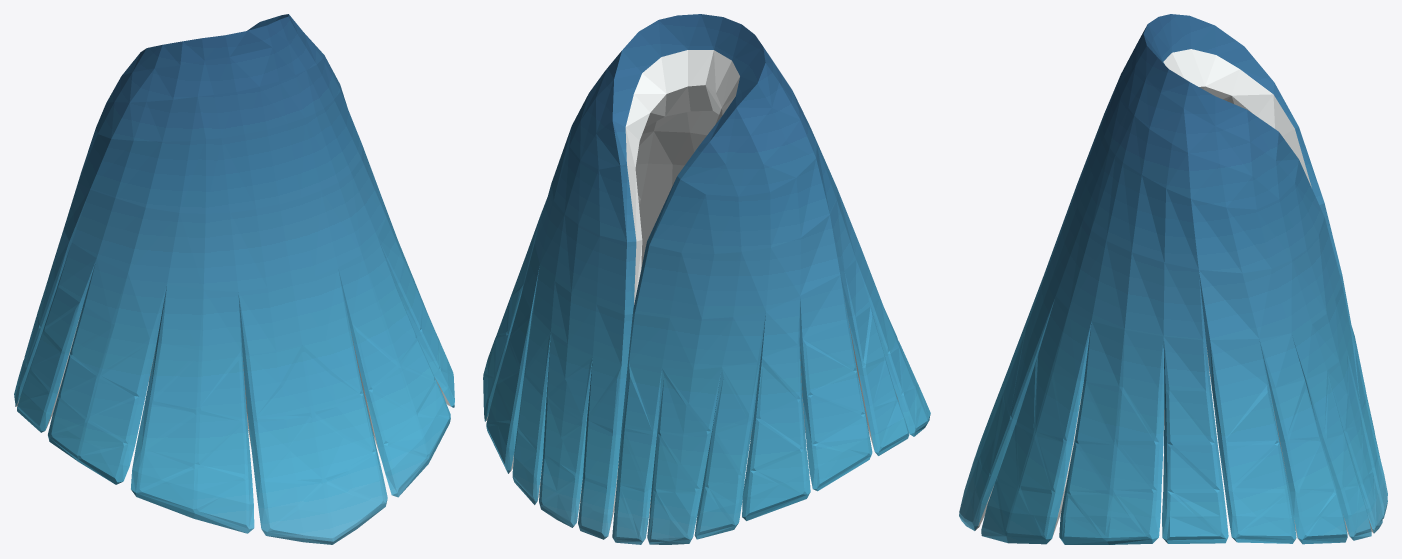
File: CharSkyKid_Wing_TGCWireframeEvergreen.glb
3 renders of one model, left to right at view 1: azimuth 30°, elevation 25°; view 2: azimuth 150°, elevation 25°; view 3: azimuth 270°, elevation 25°, orthographic. The views are drawn at different scales.
Parts seen in each view (by area): view 1: CharSkyKid_Wing_TGCWireframeEvergreen; view 2: CharSkyKid_Wing_TGCWireframeEvergreen; view 3: CharSkyKid_Wing_TGCWireframeEvergreen.
Part boxes in pixels (left/top/right/bottom): CharSkyKid_Wing_TGCWireframeEvergreen: left=14, top=14, right=454, bottom=544; CharSkyKid_Wing_TGCWireframeEvergreen: left=483, top=14, right=930, bottom=544; CharSkyKid_Wing_TGCWireframeEvergreen: left=959, top=14, right=1387, bottom=544.
Size of the model in its own units: 6.37 by 6.93 by 5.54.
Materials: 1 (1 with a texture image).
